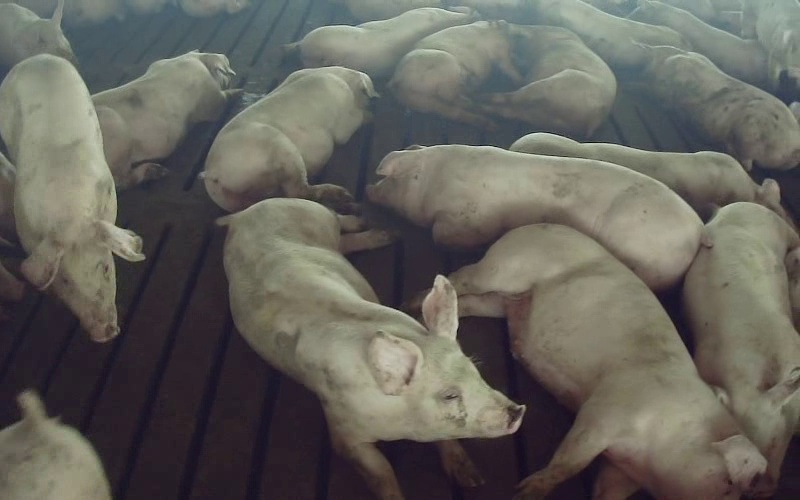pig: (220, 199, 524, 499), (450, 225, 765, 499), (367, 146, 703, 289), (0, 54, 143, 341), (683, 202, 799, 495), (510, 133, 791, 223), (201, 67, 376, 211), (92, 51, 238, 189), (637, 45, 799, 169), (479, 25, 616, 136), (388, 21, 520, 124), (285, 8, 477, 78), (629, 0, 767, 86), (535, 0, 686, 67)
